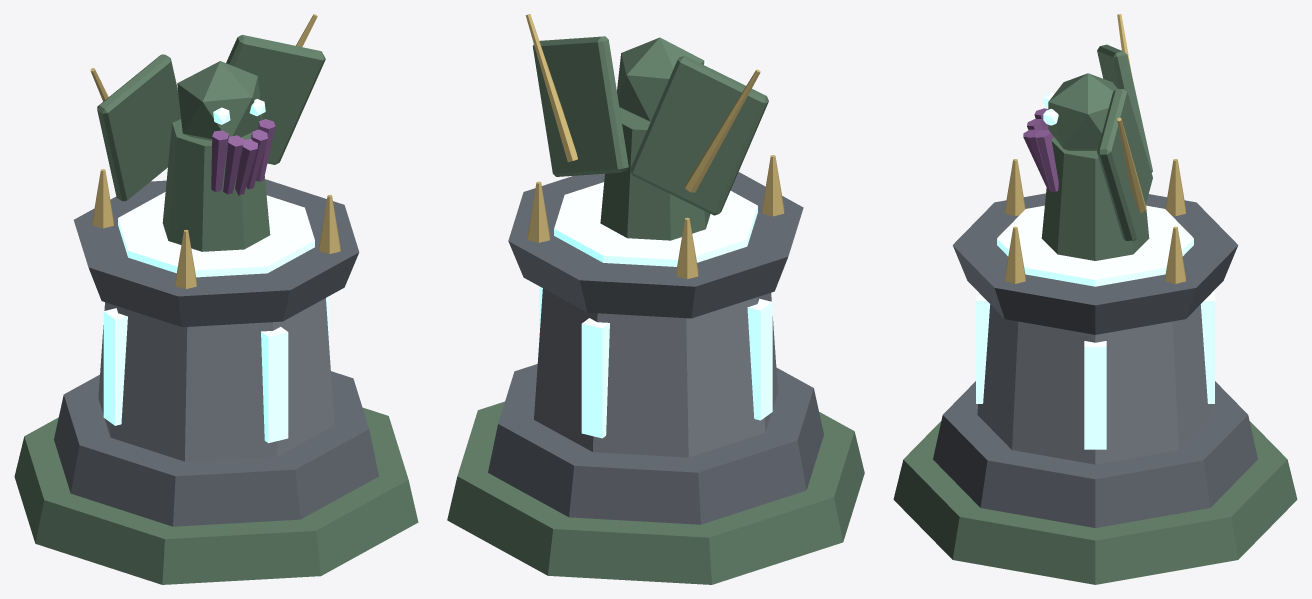
The model's file is castle_altar.glb.
3 renders of one model, left to right at view 1: azimuth 30°, elevation 25°; view 2: azimuth 150°, elevation 25°; view 3: azimuth 270°, elevation 25°, orthographic. The views are drawn at different scales.
Visible parts, largest first — view 1: Castle_Altar; view 2: Castle_Altar; view 3: Castle_Altar.
Part boxes in pixels (x1,y1,x2,y2): Castle_Altar: (14, 14, 418, 584); Castle_Altar: (447, 14, 864, 584); Castle_Altar: (893, 14, 1297, 584).
Bounding box in the file's own units: 2.38 × 2.82 × 2.38.
